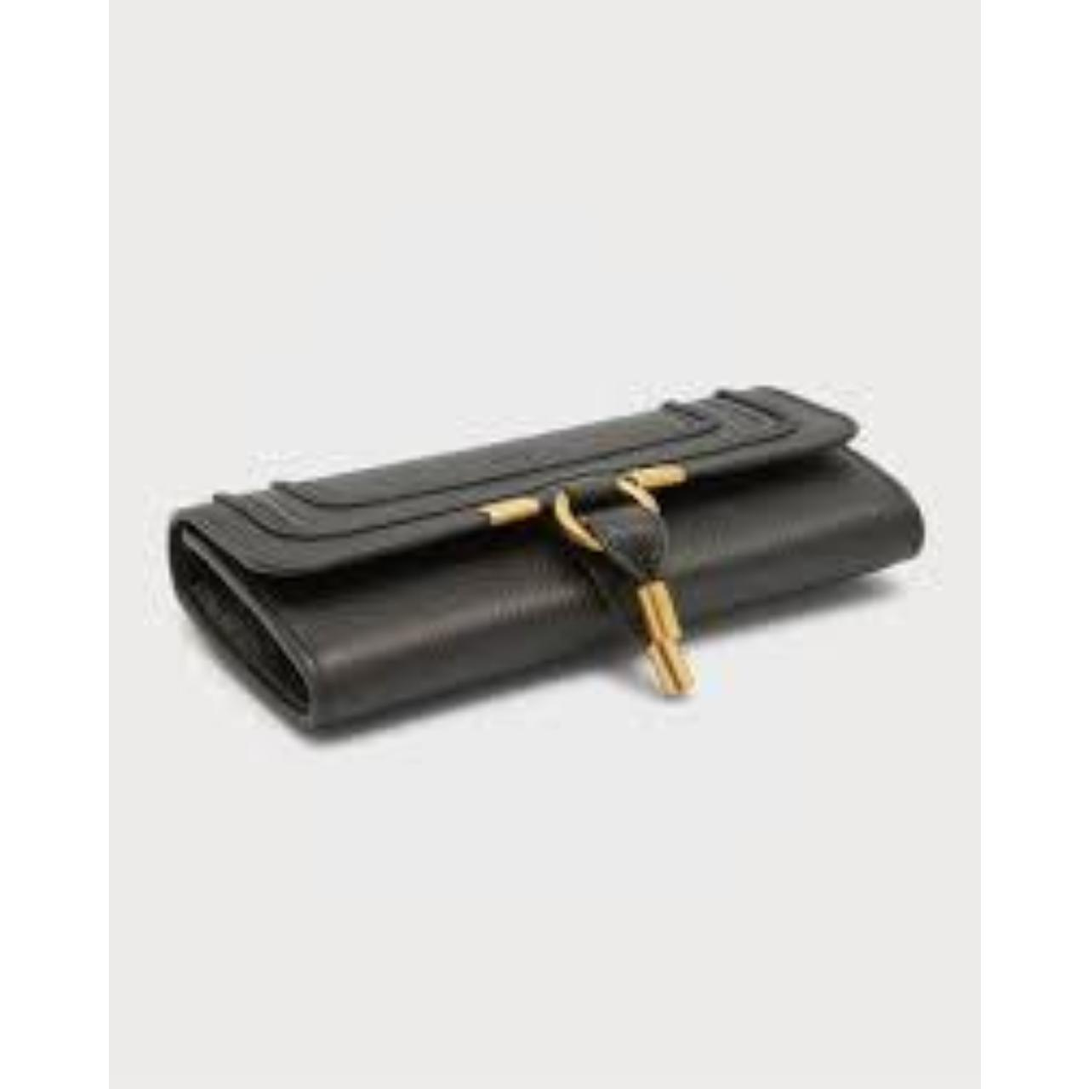wallet: (169, 393, 980, 718)
